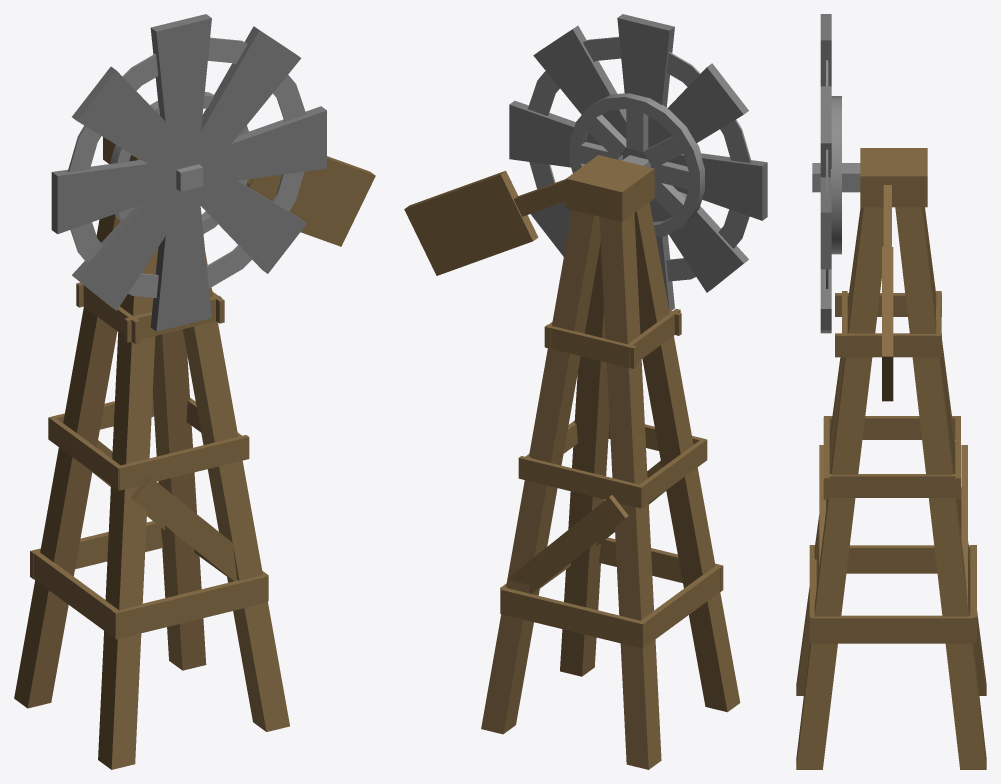
Rendered from Windmill.fbx.
3 views of the same model, side by side, from view 1: azimuth 30°, elevation 25°; view 2: azimuth 150°, elevation 25°; view 3: azimuth 270°, elevation 25° (orthographic). The views are drawn at different scales.
Visible parts, largest first — view 1: Windmill; view 2: Windmill; view 3: Windmill.
Part boxes in pixels (x1,y1,x2,y2): Windmill: (14, 14, 375, 769); Windmill: (404, 14, 767, 769); Windmill: (796, 14, 986, 769).
Bounding box in the file's own units: 4.69 × 9.17 × 2.27.
